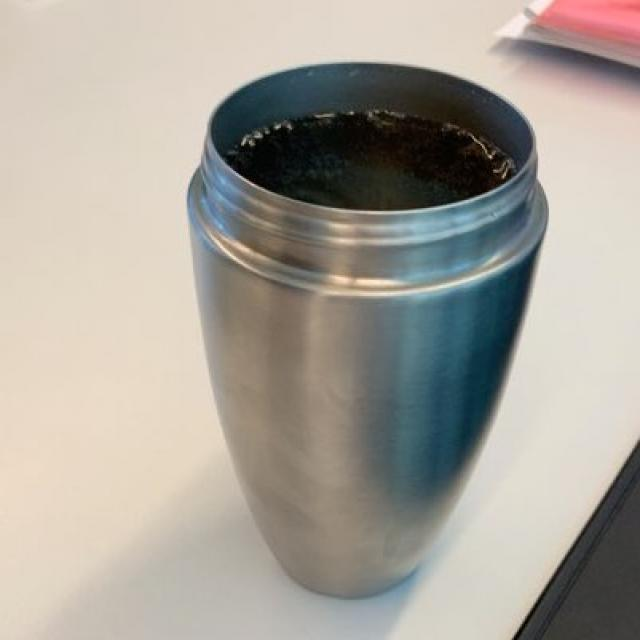water: (242, 109, 498, 205)
